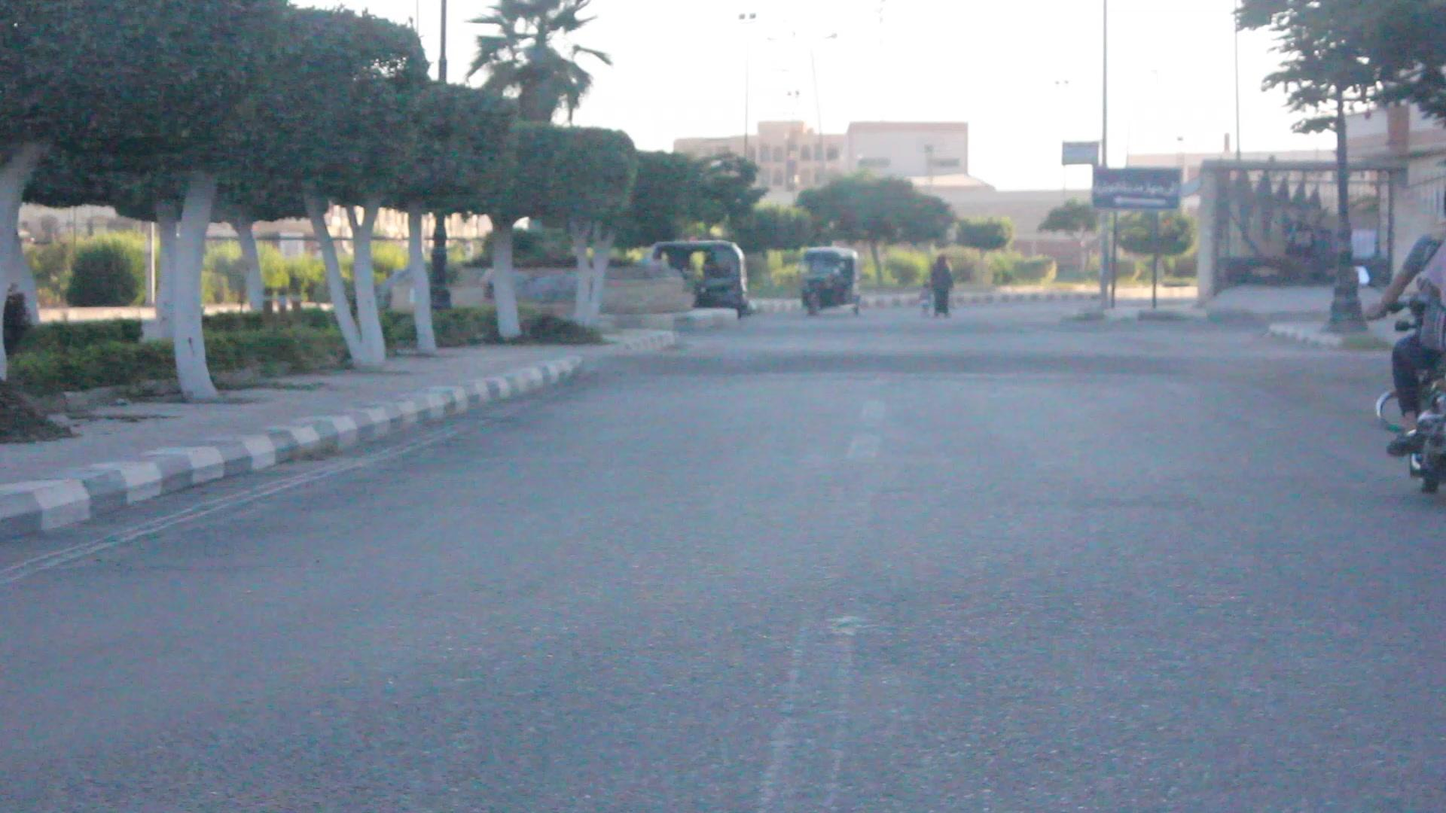Bump: (608, 346, 1261, 382)
